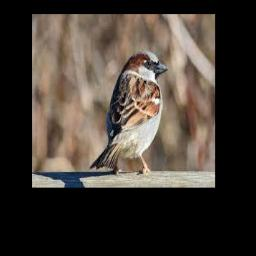Sparrow: (90, 50, 169, 174)
